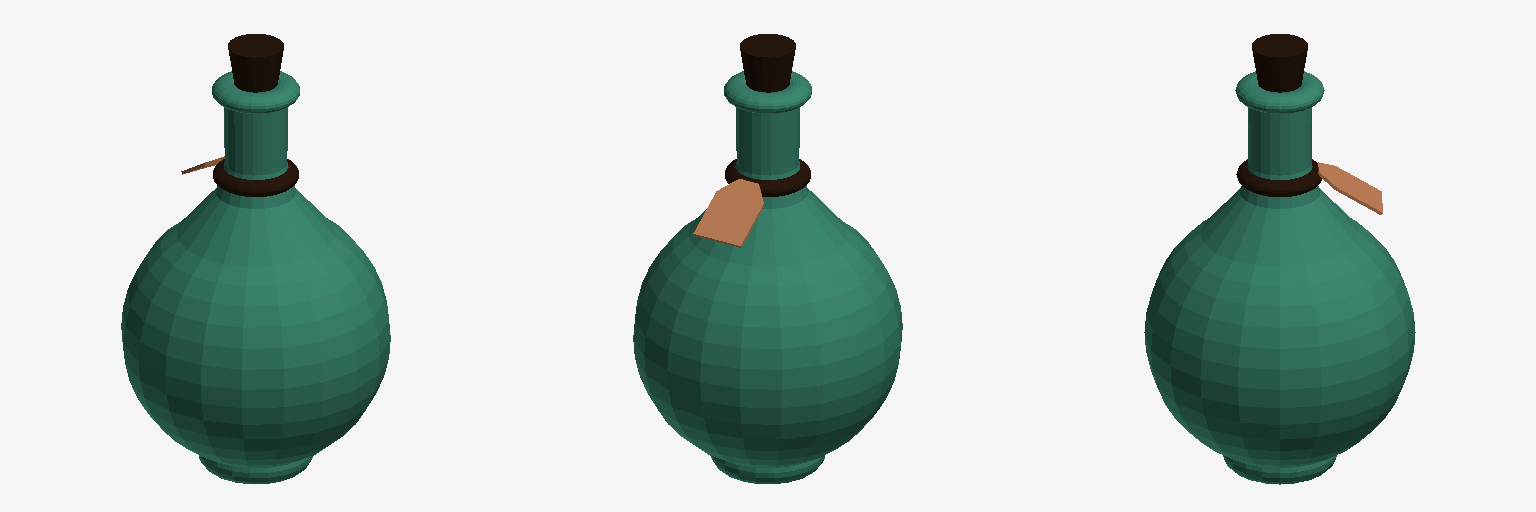
File: PotionBottle.obj
The picture shows the model from 3 angles: view 1: azimuth 30°, elevation 25°; view 2: azimuth 150°, elevation 25°; view 3: azimuth 270°, elevation 25°; orthographic projection.
Visible parts, largest first — view 1: pSphere1, pCylinder1, pCylinder2, pTorus2, pTorus3, pTorus1; view 2: pSphere1, pCylinder1, pCube1, pCylinder2, pTorus2, pTorus1, pTorus3; view 3: pSphere1, pCylinder1, pCylinder2, pTorus2, pTorus1, pTorus3, pCube1.
Part boxes in pixels (x1,y1,x2,y2): pSphere1: (121,201,390,467); pCylinder1: (195,107,316,238); pCylinder2: (228,34,283,92); pTorus2: (212,71,299,113); pTorus3: (213,159,298,196); pTorus1: (199,455,313,483); pSphere1: (633,205,902,467); pCylinder1: (735,107,828,238); pCube1: (693,179,764,247); pCylinder2: (740,34,795,92); pTorus2: (724,71,811,113); pTorus1: (710,455,824,483); pTorus3: (725,159,810,196); pSphere1: (1144,206,1415,467); pCylinder1: (1219,107,1340,239); pCylinder2: (1252,34,1307,92); pTorus2: (1235,71,1324,113); pTorus1: (1223,455,1336,484); pTorus3: (1236,159,1321,196); pCube1: (1318,162,1382,214).
Bounding box in the file's own units: 2 × 3.42 × 2.